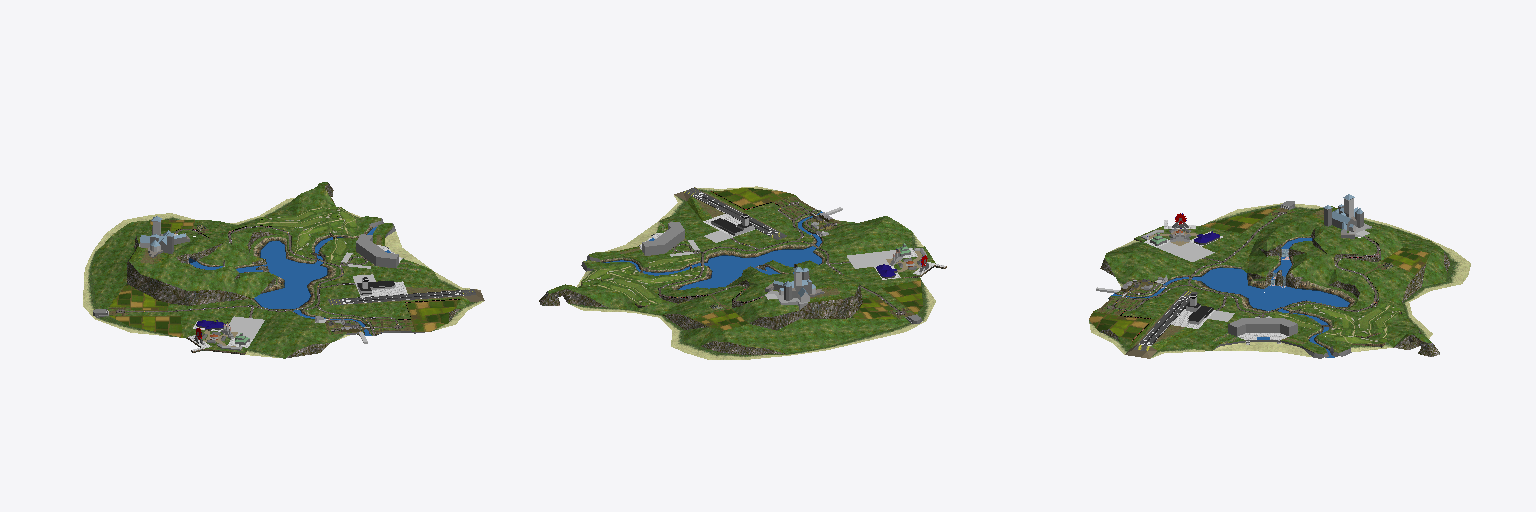
3 views of the same model, side by side, from view 1: azimuth 30°, elevation 25°; view 2: azimuth 150°, elevation 25°; view 3: azimuth 270°, elevation 25° (orthographic).
Visible parts, largest first — view 1: untitled.014_untitled.001, untitled.016_untitled.008, untitled.019_untitled.013, untitled.018_untitled.011; view 2: untitled.014_untitled.001, untitled.016_untitled.008, untitled.019_untitled.013, untitled.018_untitled.011; view 3: untitled.014_untitled.001, untitled.016_untitled.008, untitled.019_untitled.013, untitled.018_untitled.011.
Part boxes in pixels (x1,y1,x2,y2): untitled.014_untitled.001: (83, 189, 484, 358); untitled.016_untitled.008: (140, 216, 189, 257); untitled.019_untitled.013: (356, 234, 398, 267); untitled.018_untitled.011: (194, 320, 249, 350); untitled.014_untitled.001: (563, 186, 946, 359); untitled.016_untitled.008: (765, 267, 824, 302); untitled.019_untitled.013: (642, 222, 684, 255); untitled.018_untitled.011: (876, 243, 928, 278); untitled.014_untitled.001: (1089, 201, 1470, 358); untitled.016_untitled.008: (1323, 194, 1363, 238); untitled.019_untitled.013: (1228, 318, 1297, 336); untitled.018_untitled.011: (1141, 213, 1219, 245).
Bounding box in the file's own units: 1975 × 358 × 2048.
Materials: 211 (28 with a texture image).